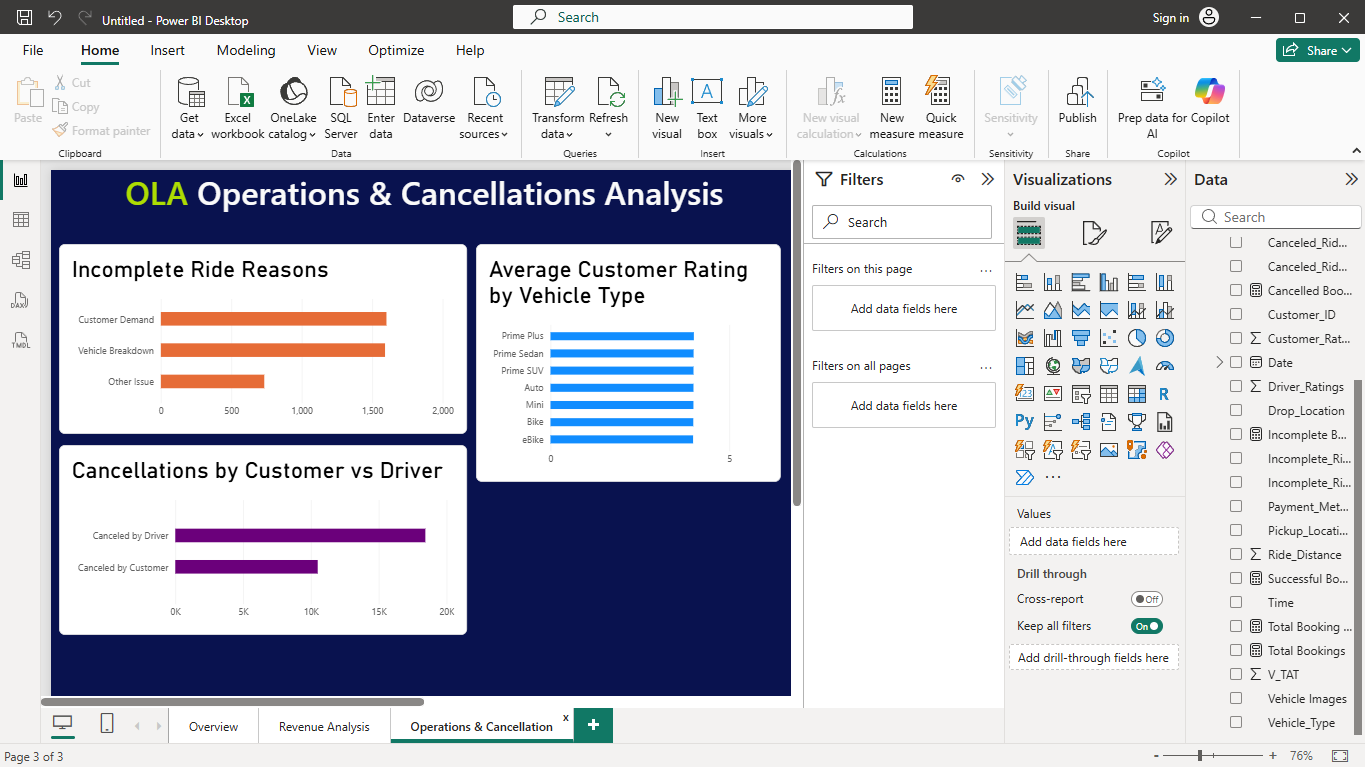

The page's visual inventory and layout, read from the dashboard file:
{"tool":"powerbi","page":{"name":"Operations & Cancellation","canvas":[1920,1080],"ordinal":2},"visuals":[{"type":"textbox","box":[73.7,0,835.5,97.4],"z":0},{"type":"clusteredBarChart","title":"Incomplete Ride Reasons","fields":{"Category":["Bookings_ola.Incomplete_Rides_Reason"],"Y":["CountNonNull(Bookings_ola.Booking_ID)"]},"box":[10.5,97.4,536.8,250],"z":1000},{"type":"clusteredBarChart","title":"Cancellations by Customer vs Driver","fields":{"Category":["Bookings_ola.Booking_Status"],"Y":["CountNonNull(Bookings_ola.Booking_ID)"]},"box":[11,362,537,250],"z":2000},{"type":"clusteredBarChart","title":"Average Customer Rating by Vehicle Type","fields":{"Y":["Avg(Bookings_ola.Customer_Rating)"],"Category":["Bookings_ola.Vehicle_Type"]},"box":[559.2,97.4,401.3,313.2],"z":2001}]}

Visuals, with their boxes on the page's 1920x1080 design canvas (x1, y1, x2, y2). These are canvas units, not pixel positions in the 1365x767 screenshot, which may show the page scaled, cropped or inside an application window:
textbox: (left=74, top=0, right=909, bottom=97)
"Incomplete Ride Reasons" clusteredBarChart: (left=10, top=97, right=547, bottom=347)
"Cancellations by Customer vs Driver" clusteredBarChart: (left=11, top=362, right=548, bottom=612)
"Average Customer Rating by Vehicle Type" clusteredBarChart: (left=559, top=97, right=960, bottom=411)
